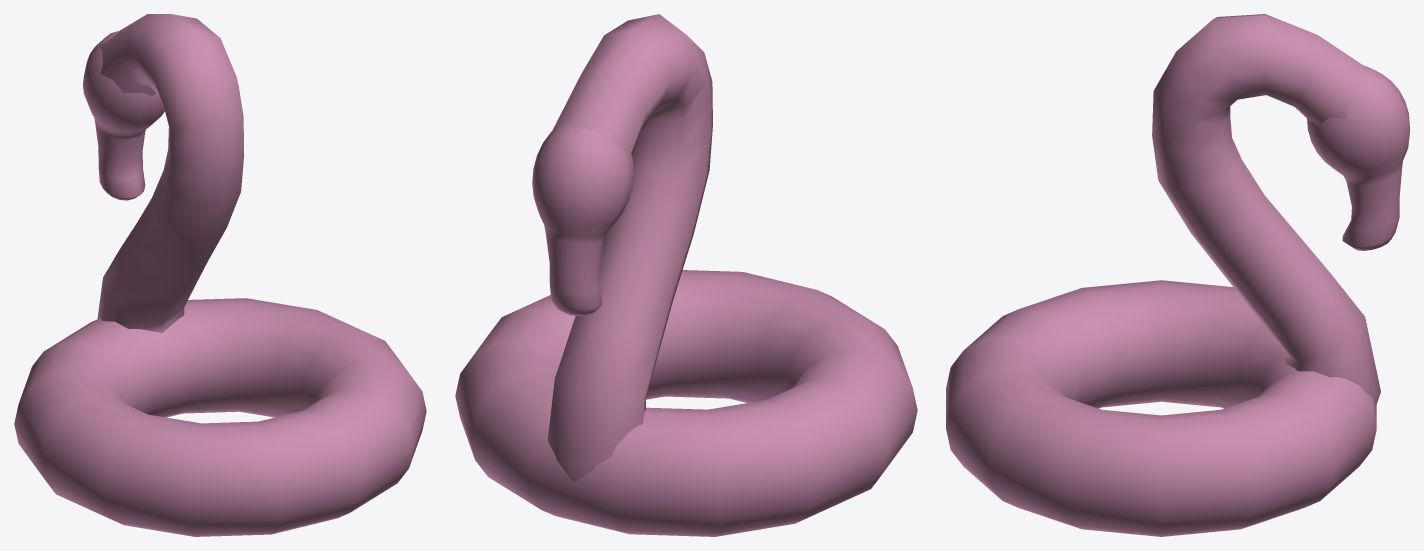
File: Flamingo.fbx
3 views of the same model, side by side, from view 1: azimuth 30°, elevation 25°; view 2: azimuth 150°, elevation 25°; view 3: azimuth 270°, elevation 25° (orthographic). The views are drawn at different scales.
Parts seen in each view (by area): view 1: ring, neck, head; view 2: ring, neck, head; view 3: ring, neck, head.
Part boxes in pixels (bbox=[...]): ring: bbox=[14, 298, 426, 536]; neck: bbox=[97, 14, 244, 332]; head: bbox=[83, 30, 164, 200]; ring: bbox=[455, 270, 917, 536]; neck: bbox=[547, 14, 712, 482]; head: bbox=[532, 124, 633, 315]; ring: bbox=[946, 280, 1376, 536]; neck: bbox=[1152, 14, 1380, 405]; head: bbox=[1307, 65, 1409, 250].
Bounding box in the file's own units: 108 × 121 × 113.
